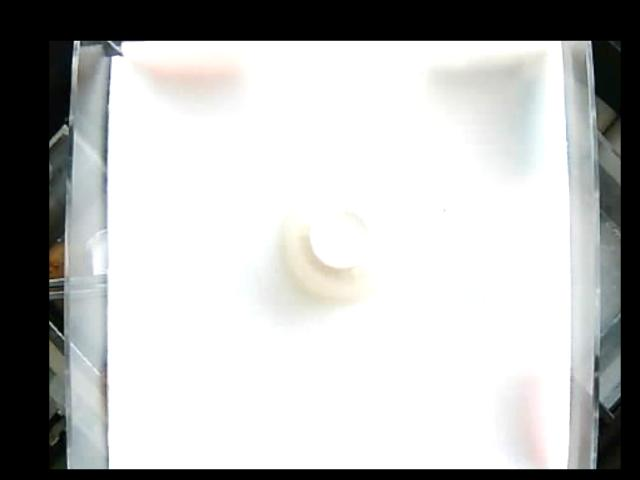Cup: (283, 177, 405, 299)
